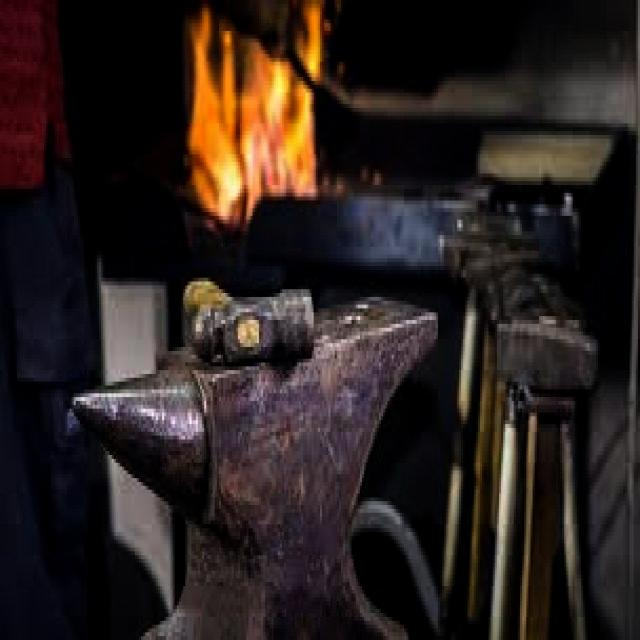hammer: (492, 308, 604, 640), (170, 258, 328, 386)
